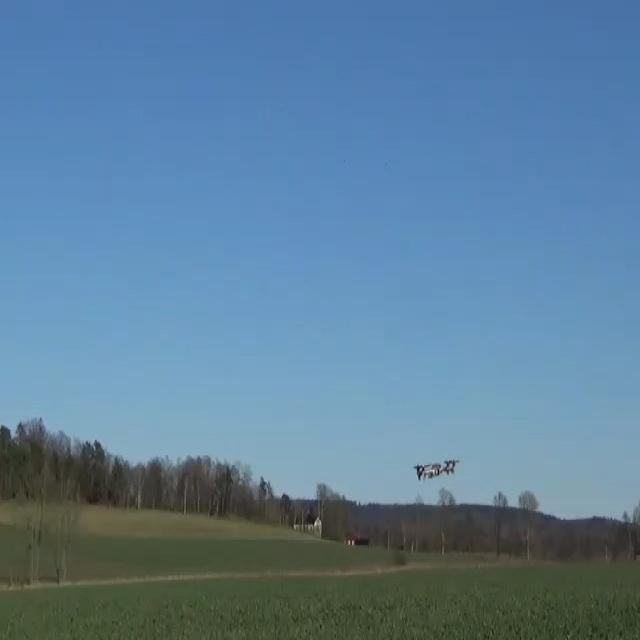drone: (414, 459, 461, 483)
